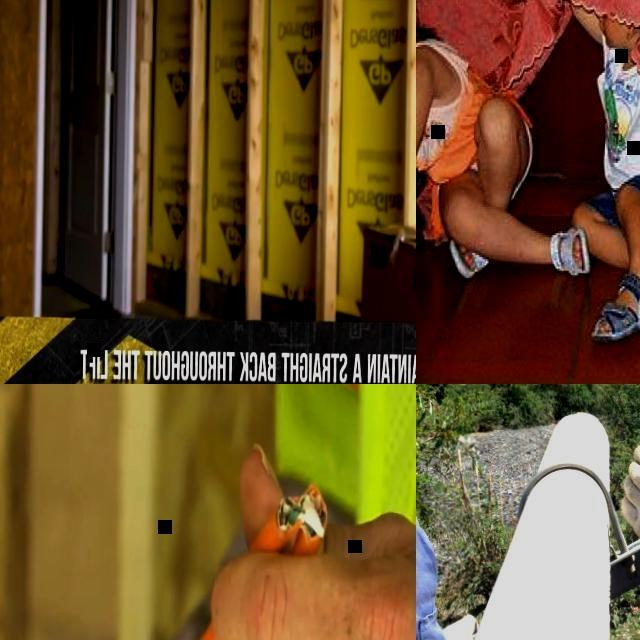no_mask: (602, 22, 624, 54)
no_vest: (416, 37, 489, 184), (605, 51, 640, 187)
person: (51, 384, 416, 640), (416, 0, 597, 282), (574, 0, 640, 346), (416, 384, 488, 640)
vest: (274, 384, 416, 636)
